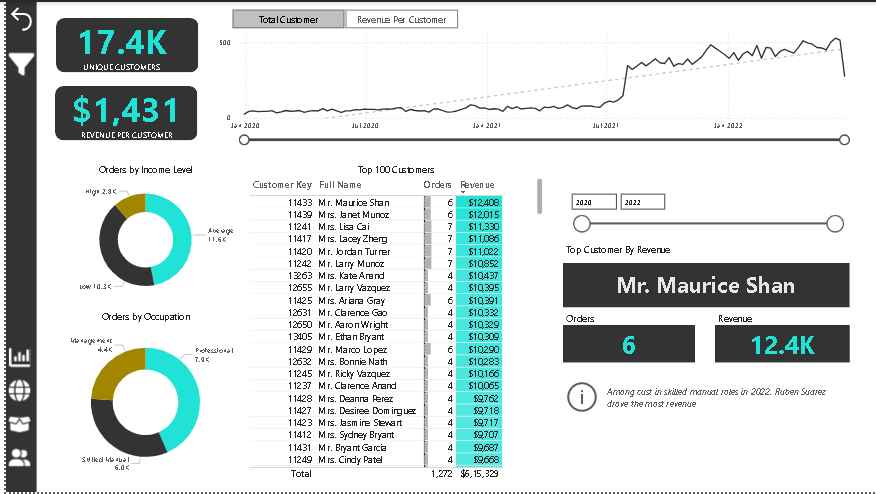

The page's visual inventory and layout, read from the dashboard file:
{"tool":"powerbi","page":{"name":"Customer Detail","canvas":[1280,720],"ordinal":3},"visuals":[{"type":"shape","title":"left nav bar","box":[0,0,45,720],"z":0},{"type":"shape","title":"kpi background","box":[72.2,24,209.5,80],"z":0,"group":"g2"},{"type":"shape","title":"kpi background","box":[72.2,123.3,209.5,80],"z":0,"group":"g1"},{"type":"card","title":"KPI value","fields":{"Values":["Measures Table.Total Customer"]},"box":[56.7,13.3,225,100],"z":1000,"group":"g2"},{"type":"group","id":"g1","title":"Rev per customer kpi","box":[64.4,112.6,225.3,100.1],"z":1000},{"type":"card","title":"KPI value","fields":{"Values":["Measures Table.Average Revenue Per Customer"]},"box":[64.4,112.6,225,100],"z":1000,"group":"g1"},{"type":"group","id":"g2","title":"Unique cust kpi","box":[56.7,13.3,225,100],"z":2000},{"type":"lineChart","fields":{"Y":["Measures Table.Total Customer"],"Category":["Calendar Lookup.Date hierarchy.Year","Calendar Lookup.Date hierarchy.Start of Month","Calendar Lookup.Date hierarchy.Start of Week","Calendar Lookup.Date hierarchy.Date"]},"box":[307.1,23.5,952.2,189.6],"z":3000},{"type":"donutChart","title":"Orders by Income Level","fields":{"Category":["Customer Lookup.Income Level"],"Y":["Measures Table.Total Orders"]},"box":[57.3,236.6,295.3,208.7],"z":4000},{"type":"donutChart","title":"Orders by Occupation","fields":{"Y":["Measures Table.Total Orders"],"Category":["Customer Lookup.Occupation"]},"box":[57.3,452.6,295.3,254.2],"z":5000},{"type":"tableEx","title":"Top 100 Customers","fields":{"Values":["Customer Lookup.CustomerKey","Customer Lookup.Full Name","Measures Table.Total Orders","Measures Table.Total Revenue"]},"box":[352.7,236.6,440.8,470.2],"z":6000},{"type":"card","fields":{"Values":["Measures Table.Full Name (customer detail)"]},"box":[818.2,383.9,421.4,65],"z":7000},{"type":"card","fields":{"Values":["Measures Table.Total Orders ( Customer details )"]},"box":[818.4,474.6,194,55],"z":8000},{"type":"card","fields":{"Values":["Measures Table.Total Revenue(customer detail)"]},"box":[1041.8,474.6,198.4,55],"z":9000},{"type":"textbox","box":[818.4,349.7,194,45.6],"z":10000},{"type":"textbox","box":[1041.8,451.1,194,45.6],"z":11000},{"type":"textbox","box":[818.4,451.1,194,45.6],"z":12000},{"type":"slicer","fields":{"Values":["Calendar Lookup.Year"]},"box":[818.4,271.8,421.7,76.4],"z":13000},{"type":"actionButton","box":[818.4,552.5,421.7,55.8],"z":14000},{"type":"actionButton","box":[0,0,45.6,50],"z":15000},{"type":"actionButton","box":[0,502.5,45.6,39.7],"z":16000},{"type":"actionButton","box":[0,649.5,45.6,39.7],"z":17000},{"type":"actionButton","box":[0,600.5,45.6,39.7],"z":18000},{"type":"actionButton","box":[0,551.5,45.6,39.7],"z":19000},{"type":"actionButton","box":[0,64.7,45.6,54.4],"z":20000},{"type":"slicer","fields":{"Values":["Customer Metric Selection.Customer Metric Selection"]},"box":[307.1,4.4,380.6,41.1],"z":20501}]}

Visuals, with their boxes on the page's 1280x720 design canvas (x1, y1, x2, y2). These are canvas units, not pixel positions in the 876x494 screenshot, which may show the page scaled, cropped or inside an application window:
"left nav bar" shape: [0,0,45,720]
"kpi background" shape: [72,24,282,104]
"kpi background" shape: [72,123,282,203]
"KPI value" card: [57,13,282,113]
"Rev per customer kpi" group: [64,113,290,213]
"KPI value" card: [64,113,289,213]
"Unique cust kpi" group: [57,13,282,113]
lineChart - Measures Table.Total Customer x Calendar Lookup.Date hierarchy.Year: [307,24,1259,213]
"Orders by Income Level" donutChart: [57,237,353,445]
"Orders by Occupation" donutChart: [57,453,353,707]
"Top 100 Customers" tableEx: [353,237,794,707]
card - Measures Table.Full Name (customer detail): [818,384,1240,449]
card - Measures Table.Total Orders ( Customer details ): [818,475,1012,530]
card - Measures Table.Total Revenue(customer detail): [1042,475,1240,530]
textbox: [818,350,1012,395]
textbox: [1042,451,1236,497]
textbox: [818,451,1012,497]
slicer - Calendar Lookup.Year: [818,272,1240,348]
actionButton: [818,552,1240,608]
actionButton: [0,0,46,50]
actionButton: [0,502,46,542]
actionButton: [0,650,46,689]
actionButton: [0,600,46,640]
actionButton: [0,552,46,591]
actionButton: [0,65,46,119]
slicer - Customer Metric Selection.Customer Metric Selection: [307,4,688,46]
